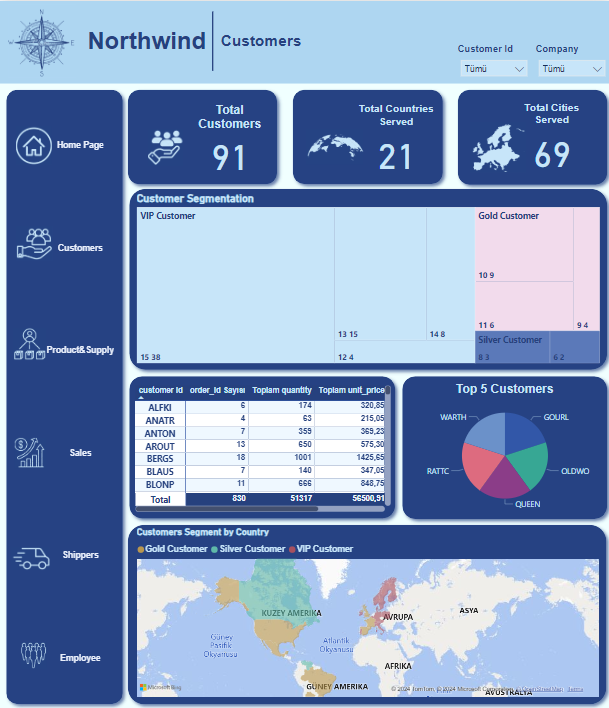

What the dashboard file says about the page in this screenshot:
{"tool":"powerbi","page":{"name":"Customers","canvas":[950,1100],"ordinal":1},"visuals":[{"type":"shape","box":[0,0,950.6,128],"z":0},{"type":"textbox","box":[129.9,33.8,206.5,57.1],"z":1000},{"type":"image","box":[0,0,129.9,123.4],"z":2000},{"type":"shape","box":[323.4,15.6,13,92.2],"z":3000},{"type":"textbox","box":[336.4,42.9,235.1,40.3],"z":4000},{"type":"shape","box":[189.2,128.9,251,166],"z":5000},{"type":"card","title":"Total Customers","fields":{"Values":["DAX.Müşteri_Sayısı"]},"box":[291.7,158.4,130.9,114.7],"z":6000},{"type":"shape","box":[443.3,128,252.2,165.6],"z":7000},{"type":"card","title":"Total Countries Served","fields":{"Values":["Count(customers.country)"]},"box":[549.1,158.4,130.9,114.7],"z":8000},{"type":"image","box":[221.1,193.7,70.6,67.6],"z":9000},{"type":"image","box":[468.2,193.7,102.9,64.7],"z":10000},{"type":"shape","box":[698.9,128,251.1,166.7],"z":11000},{"type":"card","title":"Total Cities Served","fields":{"Values":["Count(customers.city)"]},"box":[791.3,156.9,129.4,114.7],"z":12000},{"type":"image","box":[724.1,180.4,98.5,89.7],"z":13000},{"type":"shape","box":[189.5,281.4,760.5,300],"z":14000},{"type":"treemap","title":"Customer Segmentation","fields":{"Group":["RFM.segment"],"Details":["RFM.rfm_score"],"Values":["CountNonNull(RFM.customer_id)"]},"box":[205.8,295.3,727.9,270.9],"z":15000},{"type":"shape","box":[612.8,572.1,337.2,240.7],"z":16000},{"type":"pieChart","title":"Top 5 Customers","fields":{"Y":["Sum(Top5customer.rfm_score)"],"Category":["Top5customer.customer_id"]},"box":[629.1,589.5,304.7,207],"z":17000},{"type":"shape","box":[0,128.3,200,971.7],"z":18000},{"type":"shape","box":[188.6,802.3,761.4,297.7],"z":19000},{"type":"filledMap","title":"Customers Segment by Country","fields":{"Series":["RFM.segment"],"Category":["customers.country","customers.city"]},"box":[206.5,812.9,727.4,269.4],"z":20000},{"type":"shape","box":[190.5,572.4,431.9,240],"z":21000},{"type":"pivotTable","fields":{"Rows":["order details.customer_id"],"Values":["Count(order details.order_id)","Sum(order details.quantity)","Sum(order details.unit_price)","Sum(order details.discount)"]},"box":[204,590,406,206],"z":22000},{"type":"slicer","title":"Company","fields":{"Values":["customers.company_name"]},"box":[826.4,64.2,122.6,64.2],"z":23000},{"type":"slicer","title":"Customer Id","fields":{"Values":["customers.customer_id"]},"box":[703.8,64.2,122.6,64.2],"z":24000},{"type":"pageNavigator","box":[46.1,144.7,156.6,955.3],"z":25000},{"type":"image","box":[17,187.2,72.3,70.2],"z":26000},{"type":"image","box":[19.4,338.7,68.5,72.6],"z":27000},{"type":"image","box":[14.9,495.7,61.7,72.3],"z":28000},{"type":"image","box":[17,672.3,61.7,57.4],"z":29000},{"type":"image","box":[12.8,834,70.2,59.6],"z":30000},{"type":"image","box":[23.9,989.1,57.6,51.1],"z":31000}]}

Visuals, with their boxes in screenshot pixels (x1, y1, x2, y2), scaled from the page's 950x1100 canvas onto the 609x708 screenshot:
shape: detection(0, 0, 608, 82)
textbox: detection(83, 22, 216, 59)
image: detection(0, 0, 83, 79)
shape: detection(207, 10, 216, 69)
textbox: detection(216, 28, 366, 54)
shape: detection(121, 83, 282, 190)
"Total Customers" card: detection(187, 102, 271, 176)
shape: detection(284, 82, 446, 189)
"Total Countries Served" card: detection(352, 102, 436, 176)
image: detection(142, 125, 187, 168)
image: detection(300, 125, 366, 166)
shape: detection(448, 82, 608, 190)
"Total Cities Served" card: detection(507, 101, 590, 175)
image: detection(464, 116, 527, 174)
shape: detection(121, 181, 608, 374)
"Customer Segmentation" treemap: detection(132, 190, 599, 364)
shape: detection(393, 368, 608, 523)
"Top 5 Customers" pieChart: detection(403, 379, 599, 513)
shape: detection(0, 83, 128, 707)
shape: detection(121, 516, 608, 707)
"Customers Segment by Country" filledMap: detection(132, 523, 599, 697)
shape: detection(122, 368, 399, 523)
pivotTable - order details.customer_id x Count(order details.order_id): detection(131, 380, 391, 512)
"Company" slicer: detection(530, 41, 608, 83)
"Customer Id" slicer: detection(451, 41, 530, 83)
pageNavigator: detection(30, 93, 130, 707)
image: detection(11, 120, 57, 166)
image: detection(12, 218, 56, 265)
image: detection(10, 319, 49, 366)
image: detection(11, 433, 50, 470)
image: detection(8, 537, 53, 575)
image: detection(15, 637, 52, 670)
